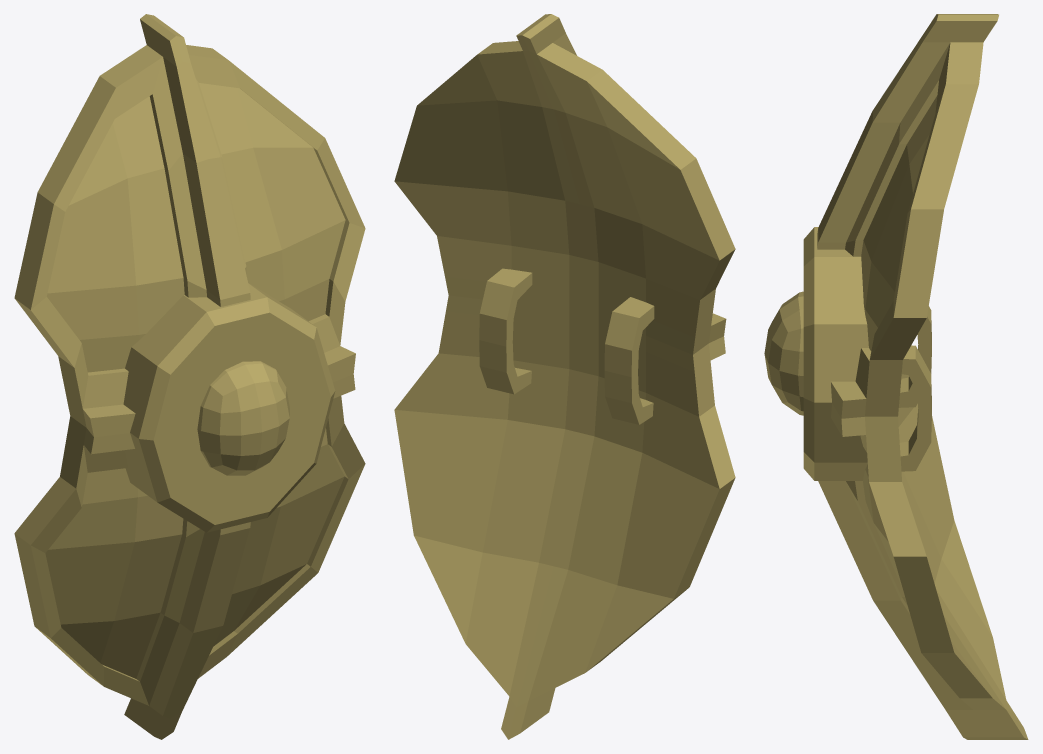
Rendered from Shield_Celtic_Golden.glb.
The picture shows the model from 3 angles, left to right: view 1: azimuth 30°, elevation 25°; view 2: azimuth 150°, elevation 25°; view 3: azimuth 270°, elevation 25°; orthographic projection. The views are drawn at different scales.
Bounding box in the file's own units: 2.1 × 4.28 × 1.41.
